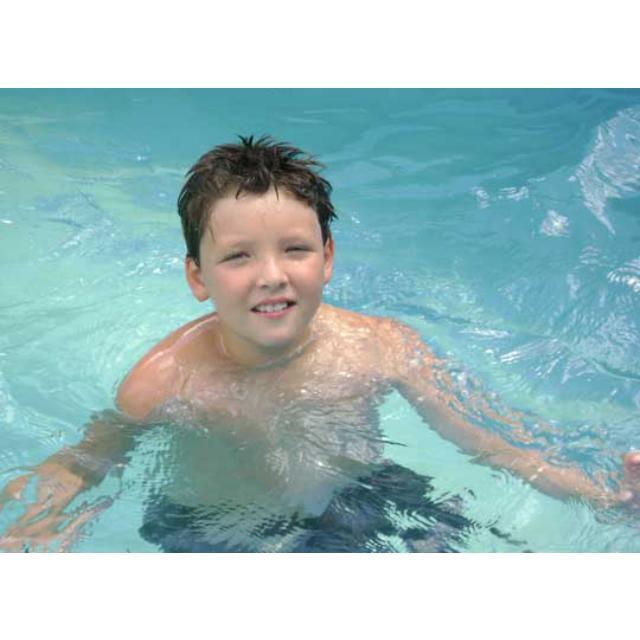human: (3, 135, 640, 554)
